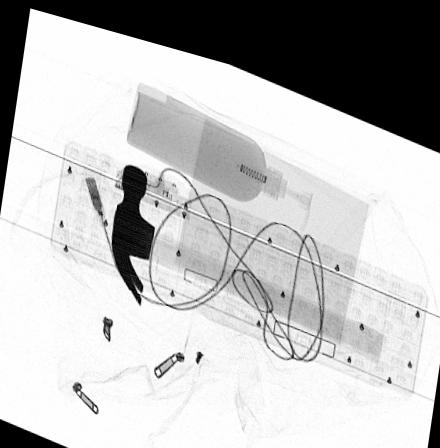Hammer: (110, 155, 383, 337)
